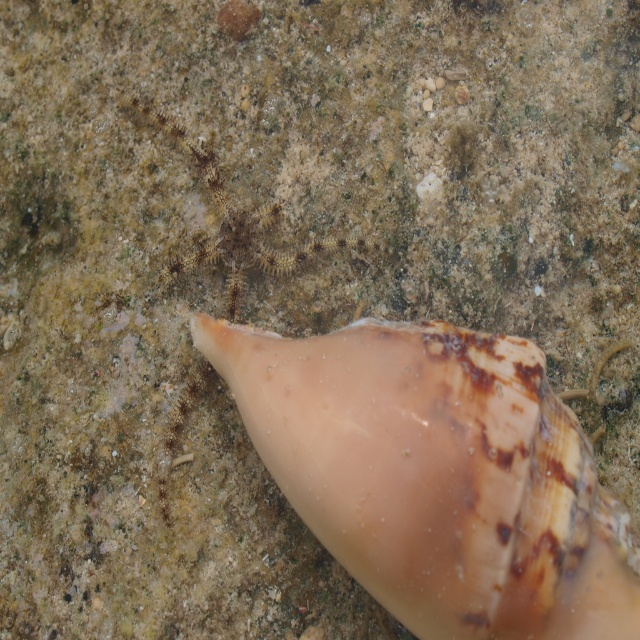Snail: (190, 313, 640, 640)
